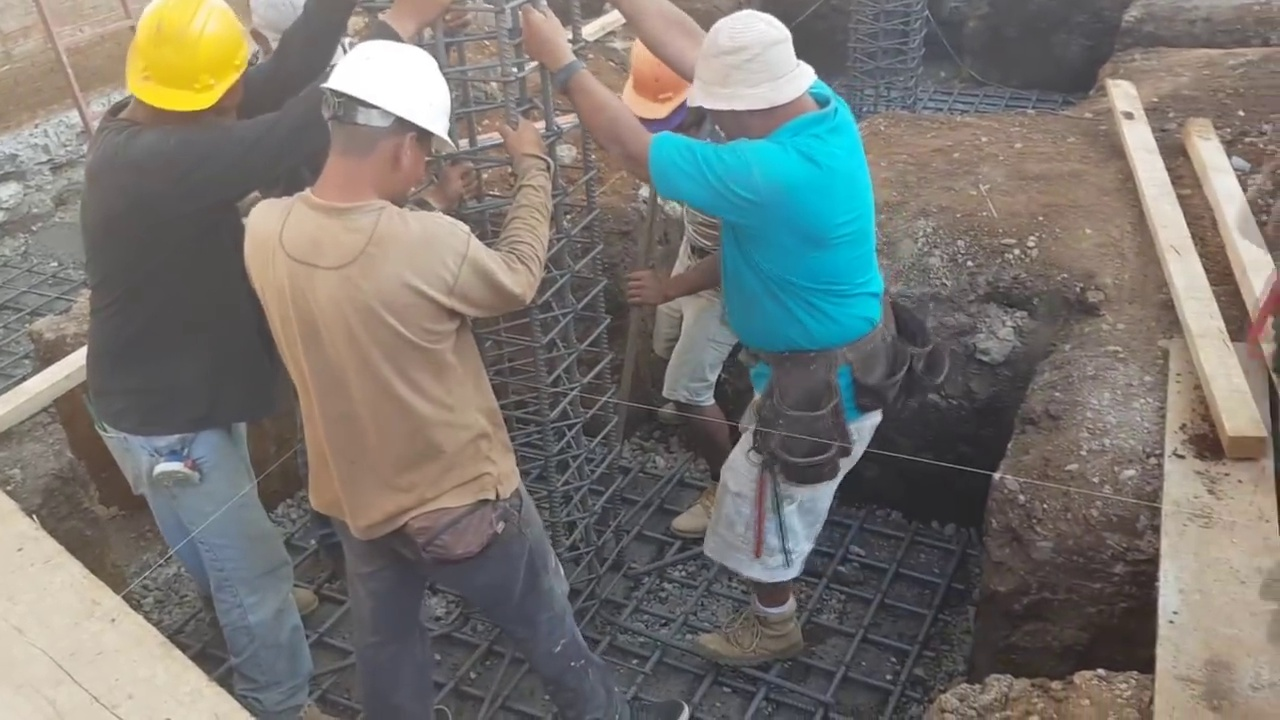helmet: (115, 1, 250, 117), (319, 39, 456, 147)
helmet-off: (679, 9, 833, 147)
helmet-on: (303, 38, 454, 218), (102, 2, 258, 132), (625, 19, 695, 133)
person: (244, 35, 686, 718), (514, 2, 902, 672), (73, 0, 360, 720), (619, 26, 740, 548)
